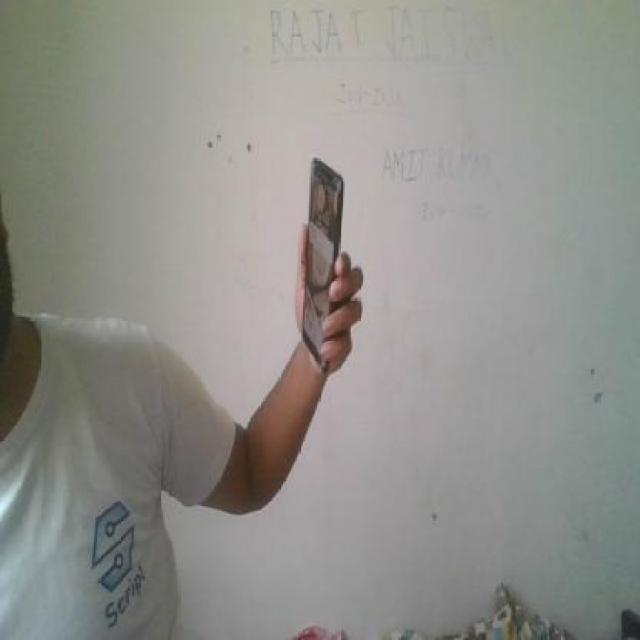Phone: (294, 154, 350, 374)
